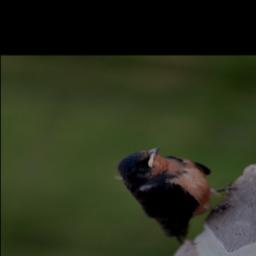Swallow: (86, 142, 255, 249)
